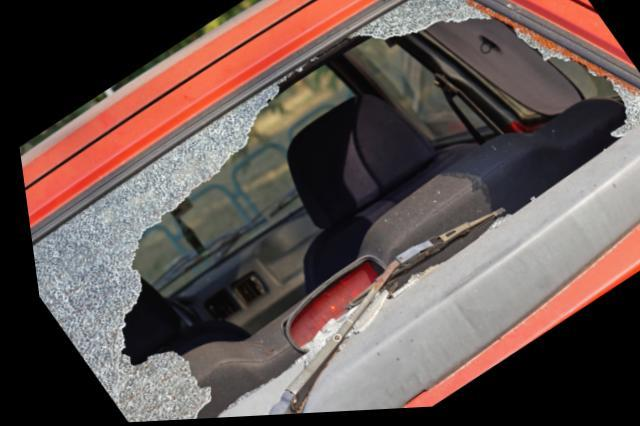glass shatter: (26, 0, 640, 423)
